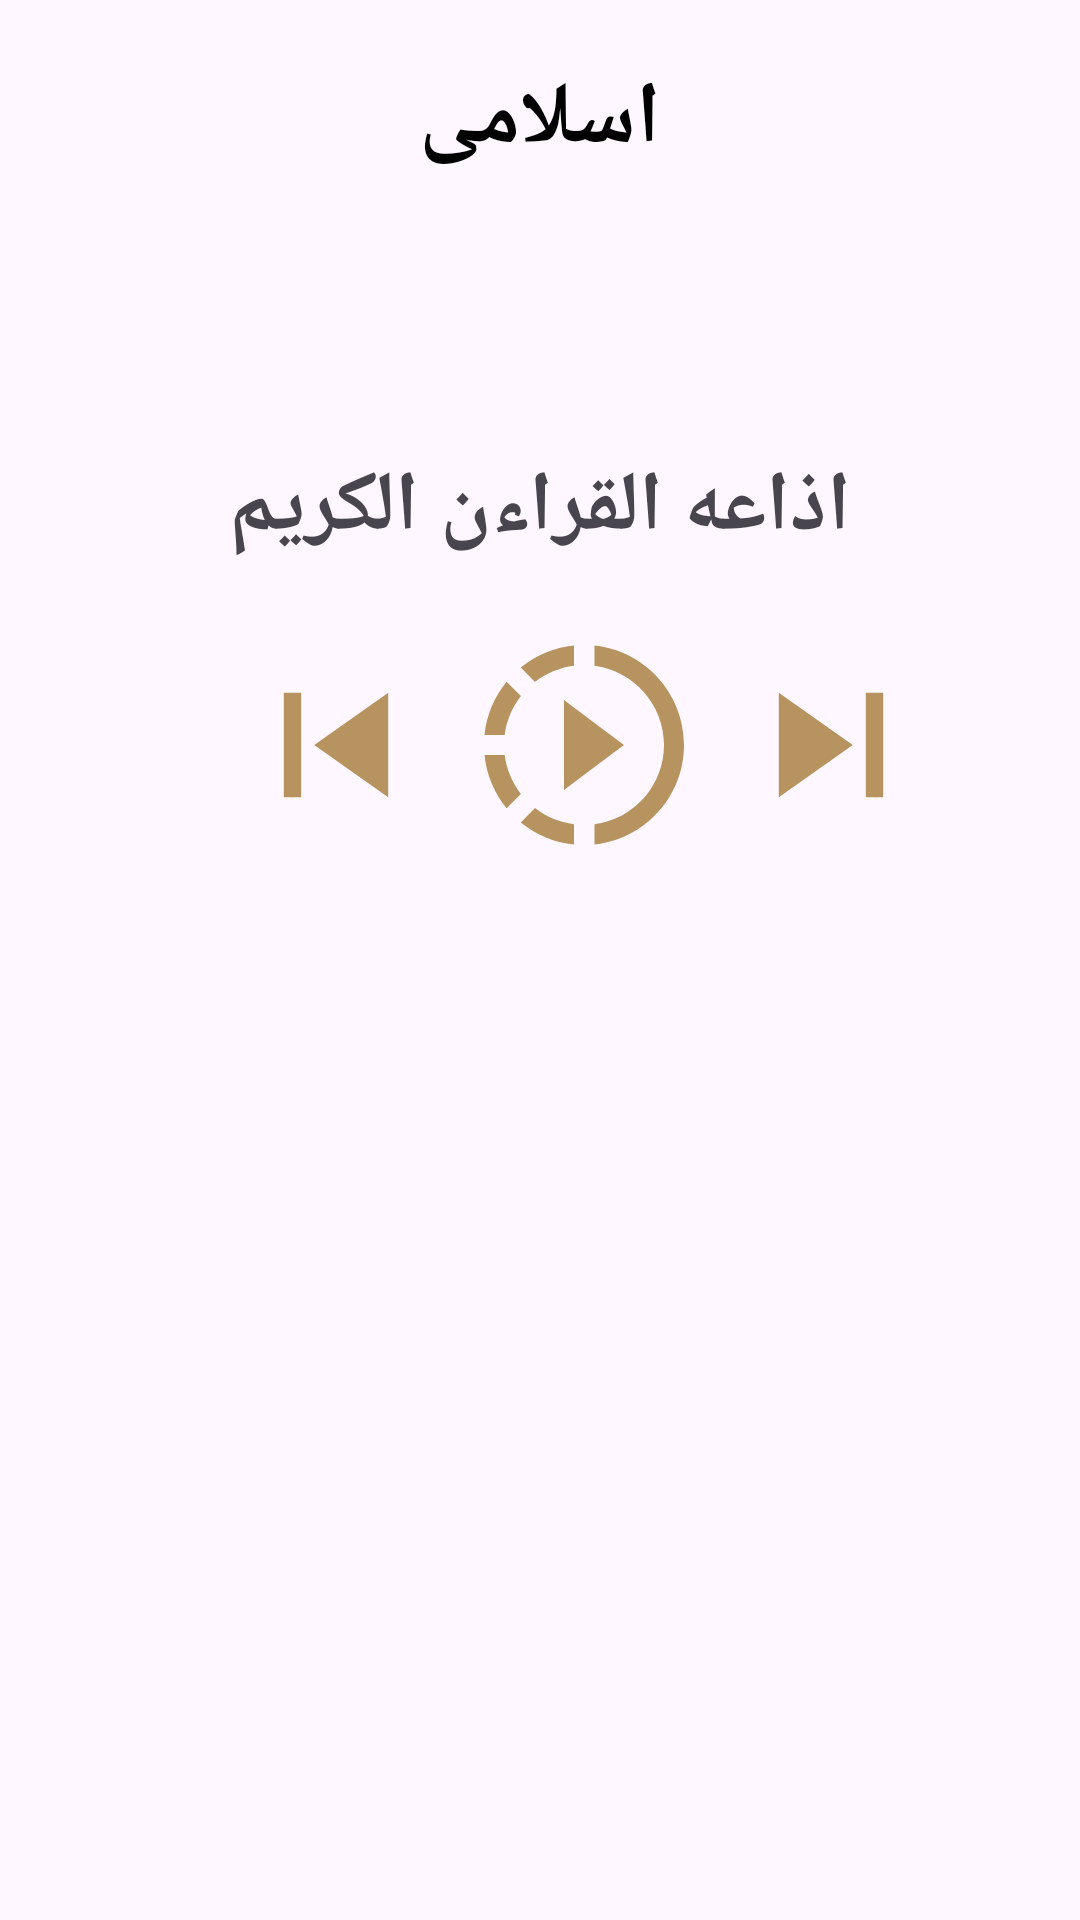

Screen size 1080×1920. Icon name, then its box in pixels as (x1, y1, x2, y2):
slow motion video: (484, 645, 684, 845)
